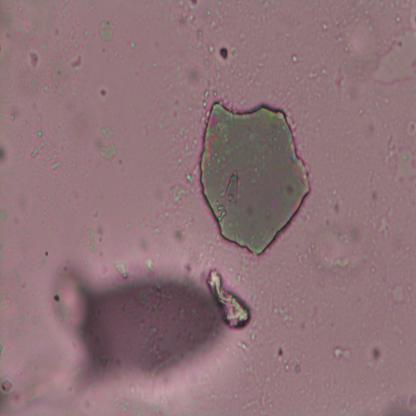Background material: (51, 251, 226, 394), (195, 93, 315, 260), (203, 265, 252, 332), (312, 220, 367, 274), (371, 21, 416, 85), (27, 112, 63, 171), (169, 2, 215, 43), (166, 172, 193, 236), (208, 44, 238, 78), (94, 126, 121, 160), (390, 282, 414, 308), (0, 379, 19, 409), (97, 16, 118, 43), (84, 227, 102, 251), (271, 344, 290, 362), (367, 338, 380, 363), (334, 345, 352, 363), (113, 262, 127, 282), (94, 83, 110, 100), (69, 53, 83, 71), (288, 48, 302, 66), (27, 50, 40, 68)
